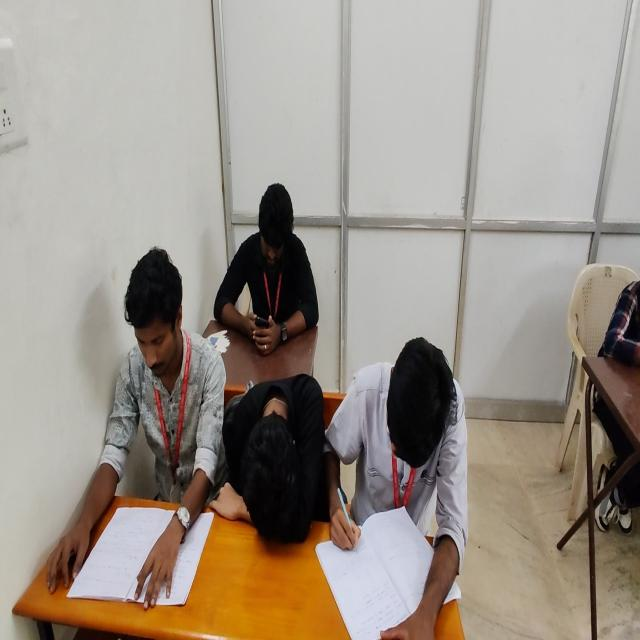reading: (44, 247, 229, 614), (316, 338, 465, 638)
sleeping: (212, 370, 330, 549)
using_mobile: (213, 183, 320, 352)
